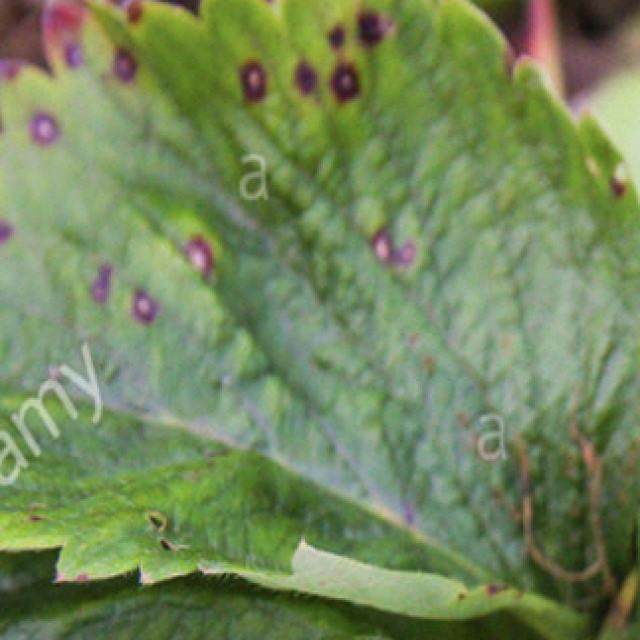Leaf Spot: (0, 0, 640, 640), (0, 549, 391, 640)
